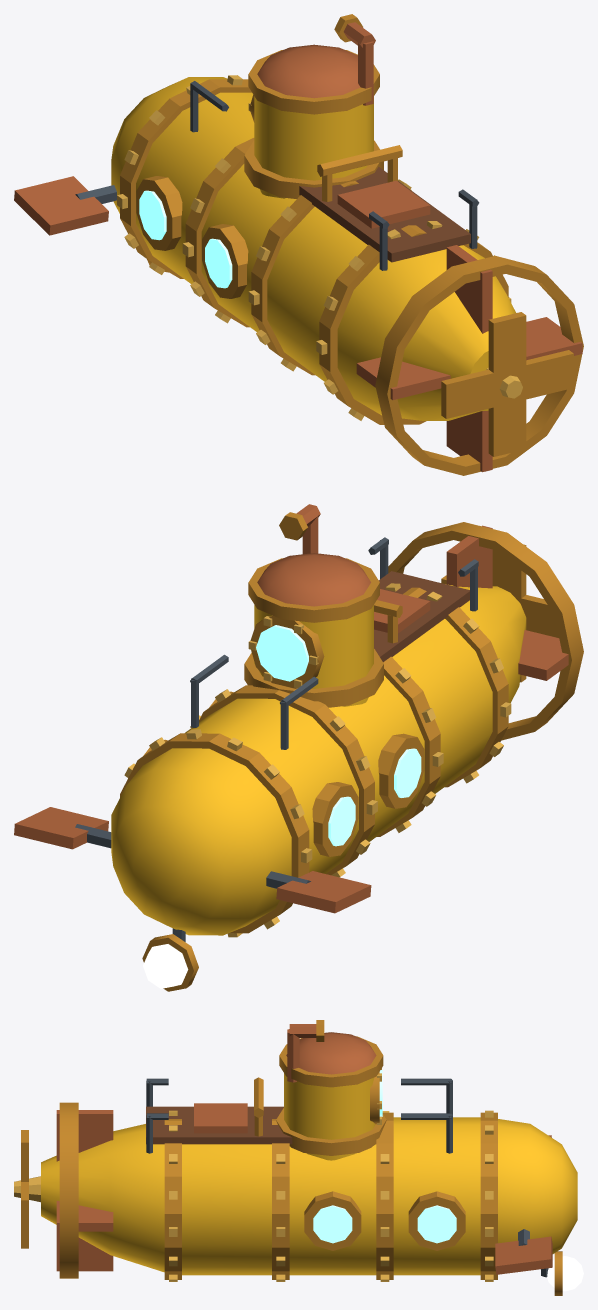
3 renders of one model, top to bottom at view 1: azimuth 30°, elevation 25°; view 2: azimuth 150°, elevation 25°; view 3: azimuth 270°, elevation 25°, orthographic. The views are drawn at different scales.
Visible parts, largest first — view 1: Hull, Tower, Hoops, Guard, Prop, Seat, Fins, Ports, Wings, Rivets, Rail, Bar (+1 smaller); view 2: Hull, Tower, Hoops, Guard, Wings, Ports, Seat, Rivets, Fins, Rail, Prop, Window (+3 smaller); view 3: Hull, Tower, Hoops, Ports, Seat, Fins, Guard, Rivets, Wings, Rail, Prop, Pipe (+2 smaller).
Part boxes in pixels (left/top/right/bottom): Hull: left=111, top=77, right=515, bottom=420; Tower: left=244, top=44, right=383, bottom=198; Hoops: left=120, top=79, right=508, bottom=424; Guard: left=375, top=256, right=583, bottom=475; Prop: left=441, top=312, right=573, bottom=456; Seat: left=299, top=166, right=470, bottom=262; Fins: left=356, top=245, right=582, bottom=472; Ports: left=136, top=176, right=411, bottom=298; Wings: left=14, top=176, right=116, bottom=235; Rivets: left=117, top=75, right=511, bottom=420; Rail: left=190, top=81, right=479, bottom=270; Bar: left=317, top=145, right=402, bottom=201; Hull: left=111, top=584, right=526, bottom=991; Tower: left=244, top=553, right=383, bottom=707; Hoops: left=120, top=587, right=508, bottom=933; Guard: left=388, top=522, right=583, bottom=740; Wings: left=14, top=807, right=371, bottom=913; Ports: left=143, top=691, right=424, bottom=856; Seat: left=374, top=571, right=469, bottom=662; Rivets: left=124, top=583, right=511, bottom=937; Fins: left=446, top=525, right=568, bottom=680; Rail: left=190, top=537, right=478, bottom=749; Prop: left=441, top=544, right=558, bottom=682; Window: left=256, top=625, right=308, bottom=681; Hull: left=41, top=1117, right=577, bottom=1295; Tower: left=276, top=1032, right=386, bottom=1160; Hoops: left=164, top=1112, right=497, bottom=1279; Ports: left=304, top=1191, right=465, bottom=1250; Seat: left=146, top=1103, right=292, bottom=1144; Fins: left=56, top=1110, right=113, bottom=1271; Guard: left=59, top=1102, right=78, bottom=1278; Rivets: left=169, top=1068, right=493, bottom=1281; Wings: left=495, top=1135, right=552, bottom=1274; Rail: left=146, top=1078, right=452, bottom=1153; Prop: left=14, top=1130, right=40, bottom=1248; Pipe: left=287, top=1020, right=324, bottom=1082.
Bounding box in the file's own units: 18.6 × 19.81 × 36.1.
